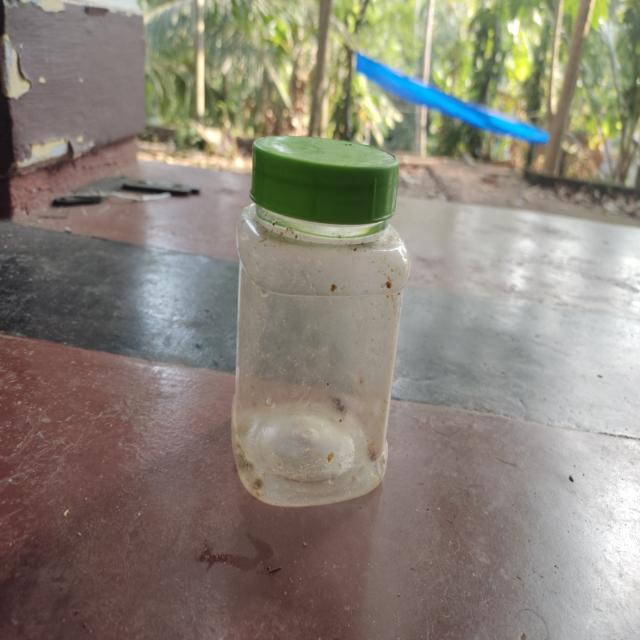plastic: (229, 125, 412, 508)
